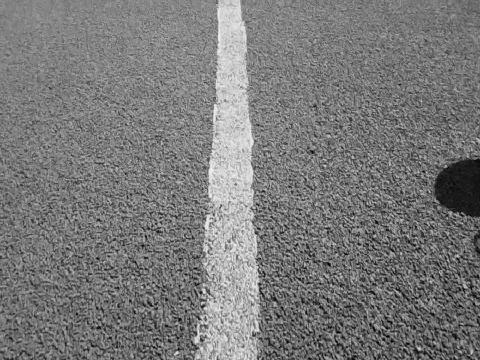Lines: (192, 0, 263, 360)
